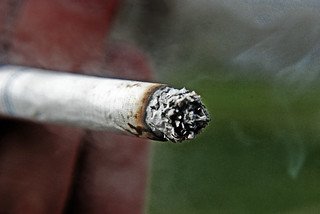cigarette: (0, 63, 211, 147)
